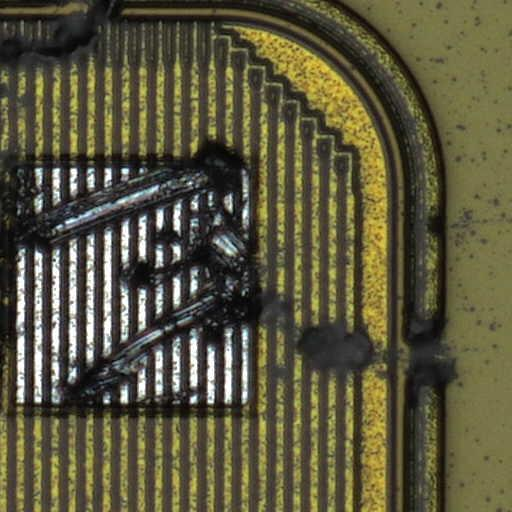SCRATCH: (1, 1, 467, 422)
